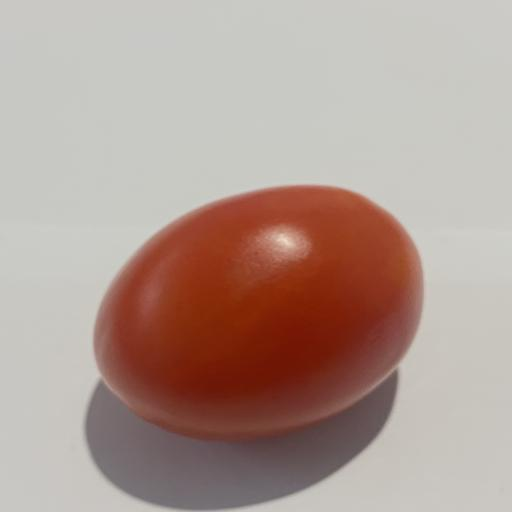ripe: (94, 186, 423, 439)
